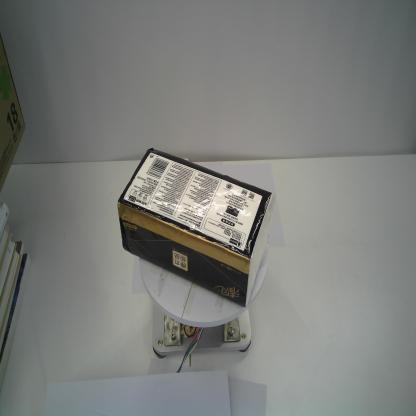Tissue: (114, 145, 274, 308)
